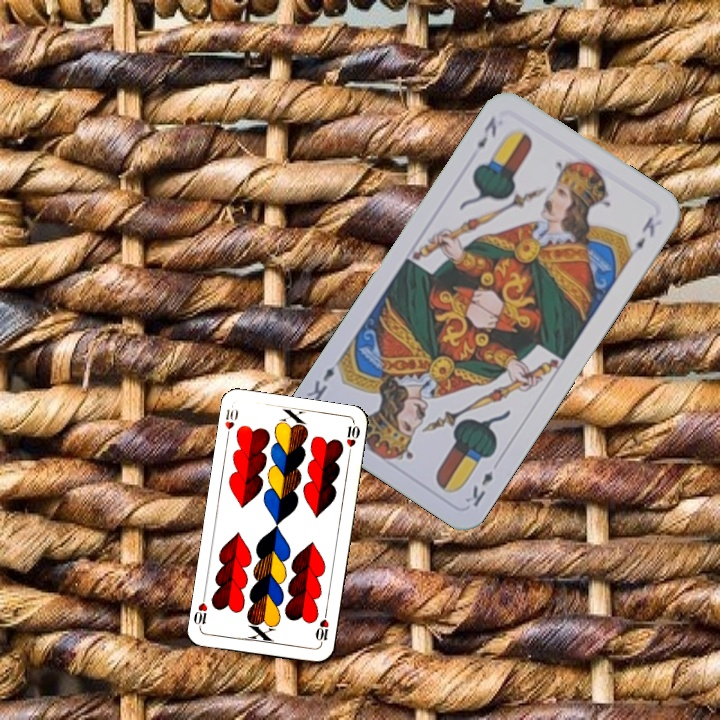EK: (461, 467, 496, 510), (472, 112, 500, 151)
H10: (312, 607, 331, 647), (221, 405, 241, 443)
